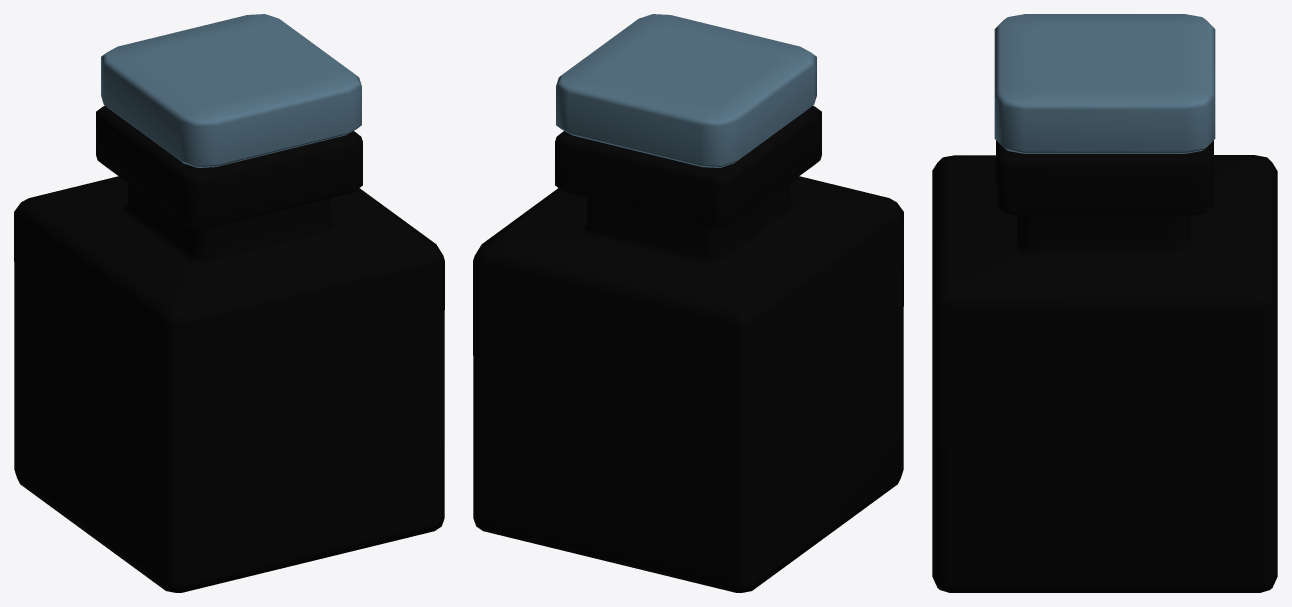
The model's file is BottlePotion_02.fbx.
The picture shows the model from 3 angles, left to right: view 1: azimuth 30°, elevation 25°; view 2: azimuth 150°, elevation 25°; view 3: azimuth 270°, elevation 25°; orthographic projection. The views are drawn at different scales.
Parts seen in each view (by area): view 1: BottlePotion_02, Bouchon; view 2: BottlePotion_02, Bouchon; view 3: BottlePotion_02, Bouchon.
Boxes of the visible parts, box(x1,y1,x2,y2) form: BottlePotion_02: box(14, 105, 444, 592); Bouchon: box(101, 14, 361, 167); BottlePotion_02: box(473, 105, 903, 592); Bouchon: box(556, 14, 816, 167); BottlePotion_02: box(932, 140, 1277, 592); Bouchon: box(994, 14, 1215, 153).
Size of the model in its own units: 0.1199 by 0.1798 by 0.1199.
